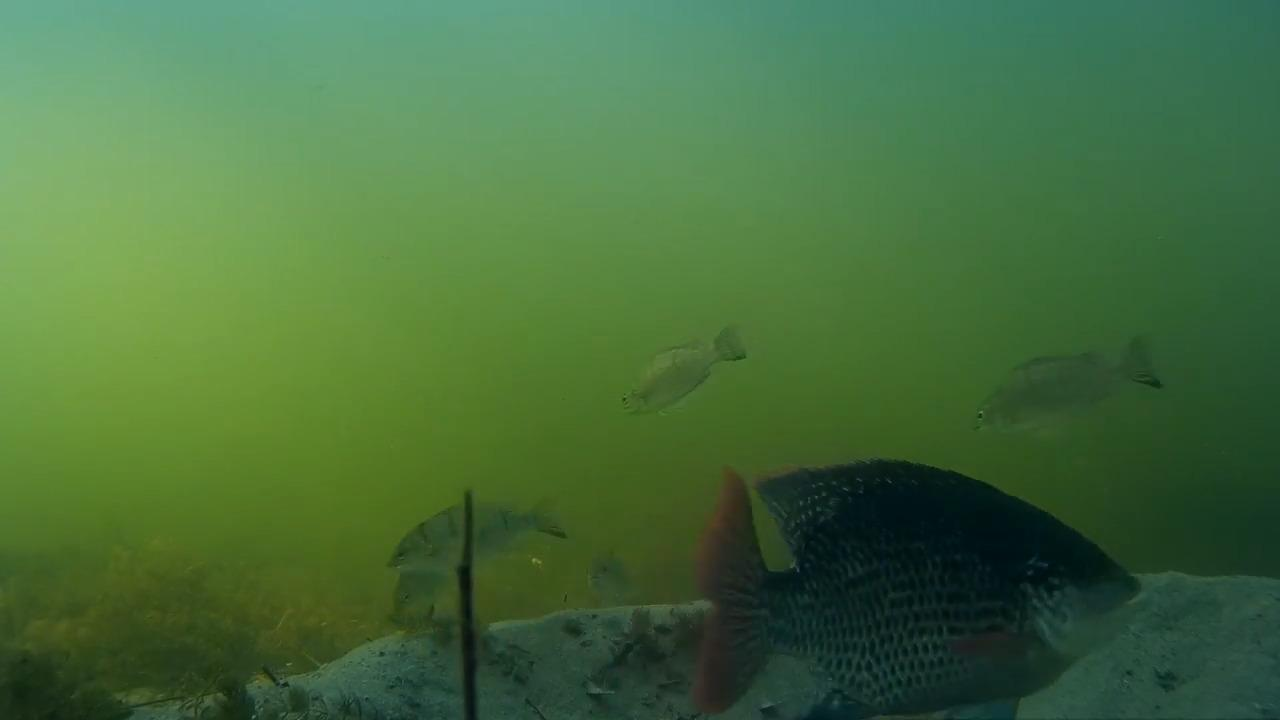Tilapia: (966, 328, 1169, 448), (385, 488, 566, 576), (616, 320, 755, 426)
